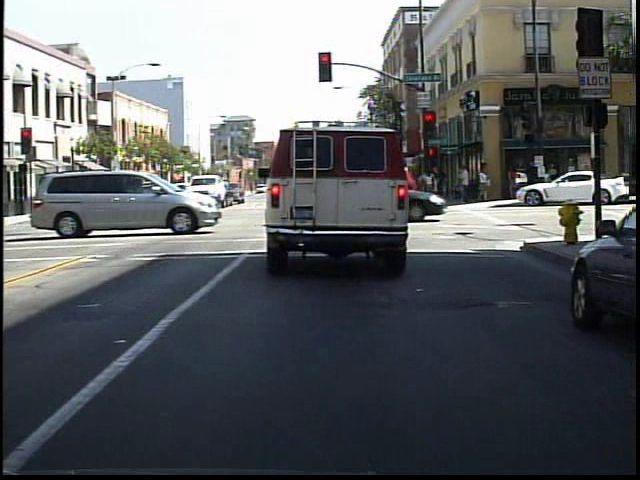person: (521, 156, 542, 207), (505, 160, 521, 201)
